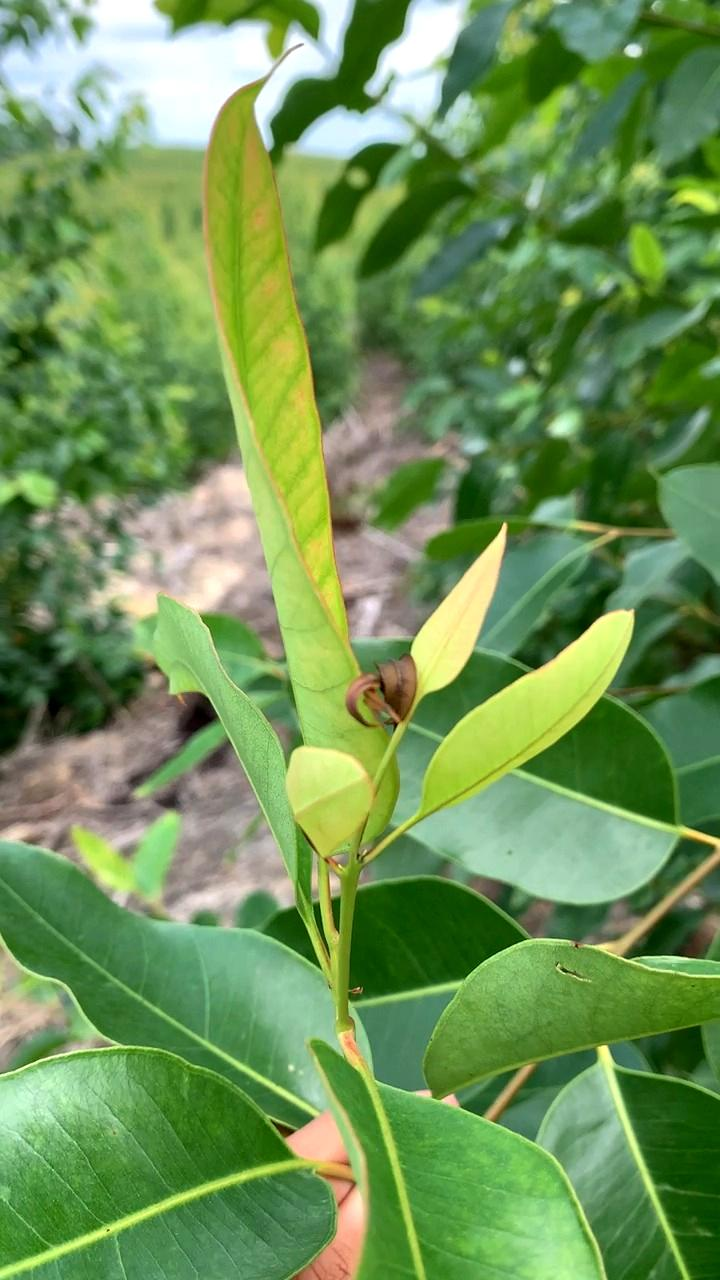Helopeltis-Withered Sprout: (338, 653, 427, 731)
